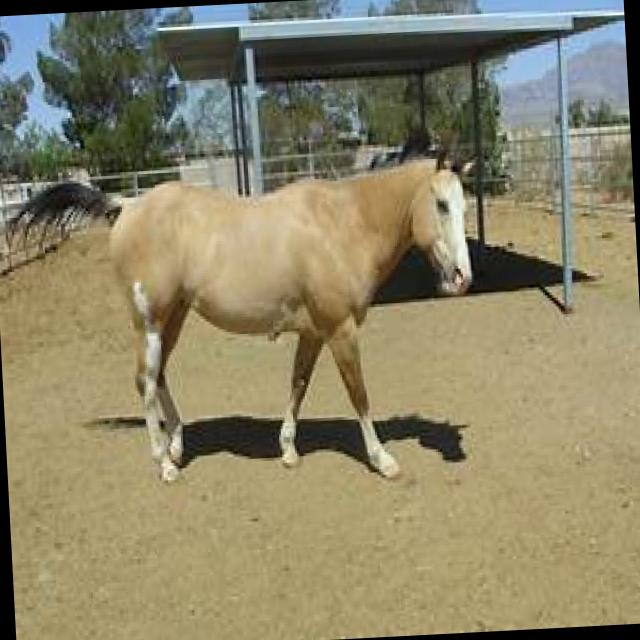animal: (0, 145, 493, 500)
